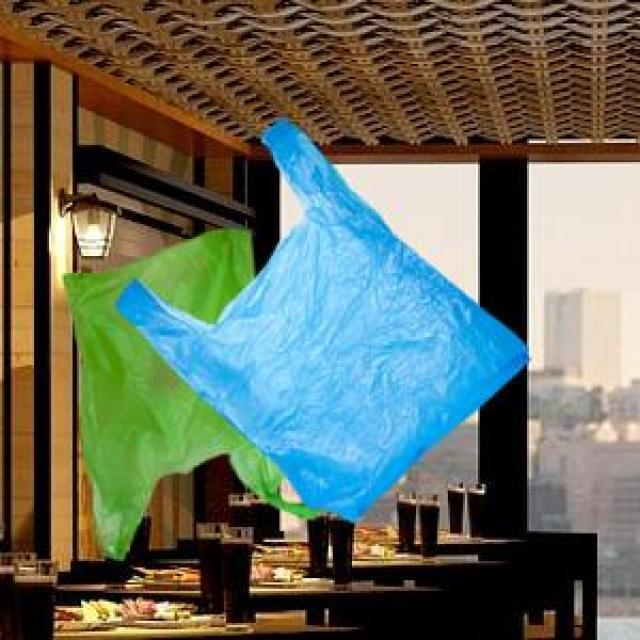waste: (126, 162, 496, 509), (65, 226, 292, 552)
